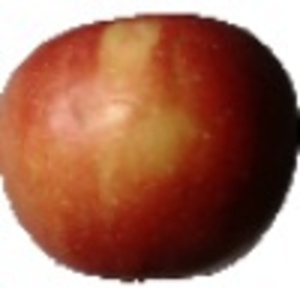maçã braeburn: (1, 10, 299, 279)
